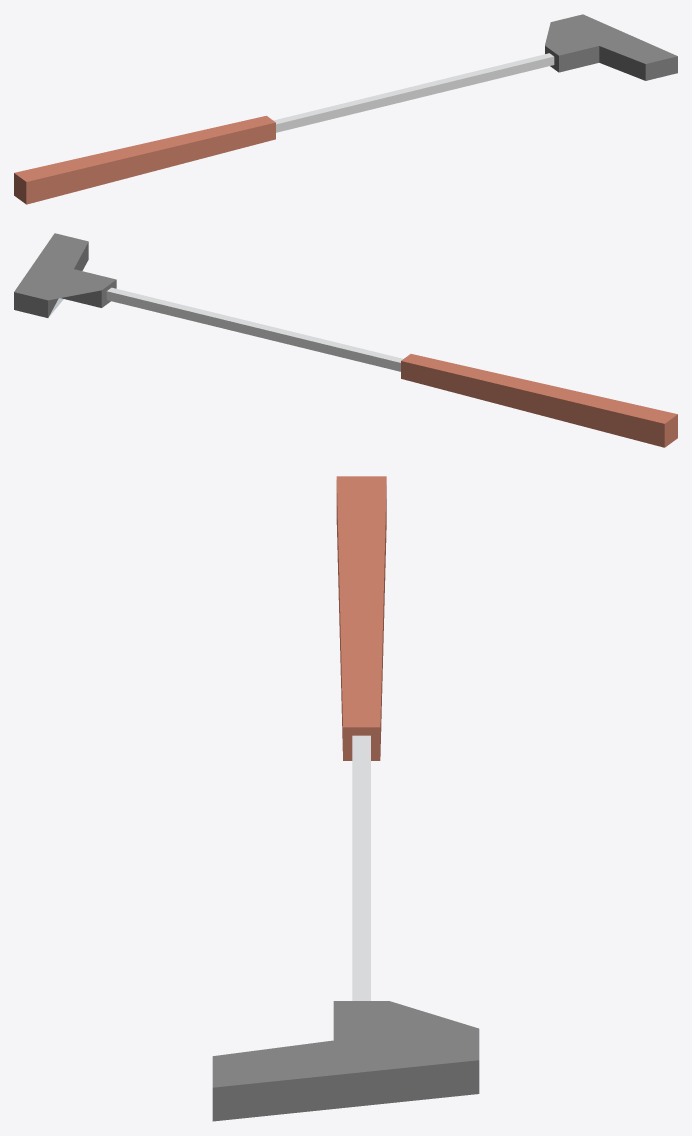
File: Club_red_01.glb
3 renders of one model, top to bottom at view 1: azimuth 30°, elevation 25°; view 2: azimuth 150°, elevation 25°; view 3: azimuth 270°, elevation 25°, orthographic. The views are drawn at different scales.
Visible parts, largest first — view 1: Mesh1 Club_red Model; view 2: Mesh1 Club_red Model; view 3: Mesh1 Club_red Model.
Part boxes in pixels (box(x1,y1,x2,y2)): Mesh1 Club_red Model: box(14, 14, 677, 204); Mesh1 Club_red Model: box(14, 233, 677, 447); Mesh1 Club_red Model: box(212, 476, 479, 1121).
Bounding box in the file's own units: 2.75 × 0.0959 × 0.5124.
